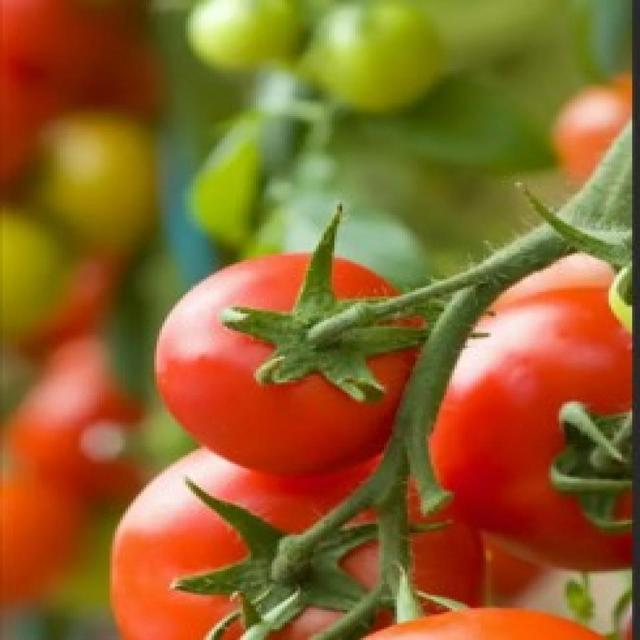Healthy Fruit: (140, 120, 357, 358)
